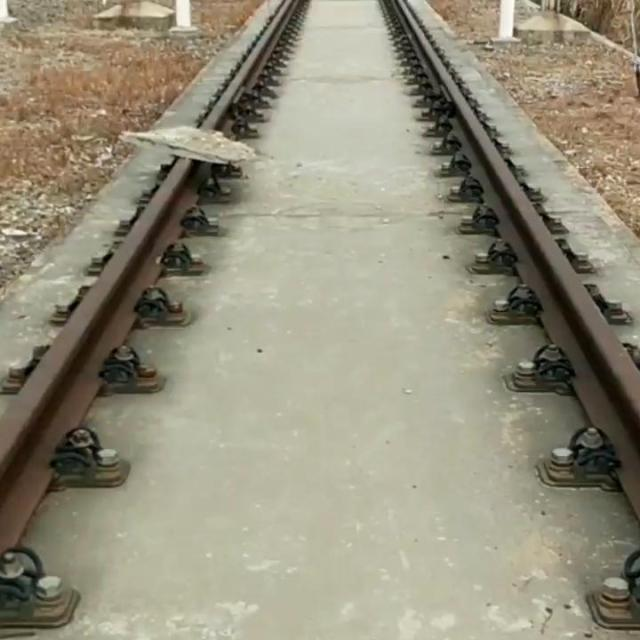danger: (112, 115, 264, 175)
rail: (384, 0, 640, 519), (0, 158, 203, 553), (201, 0, 299, 127)
